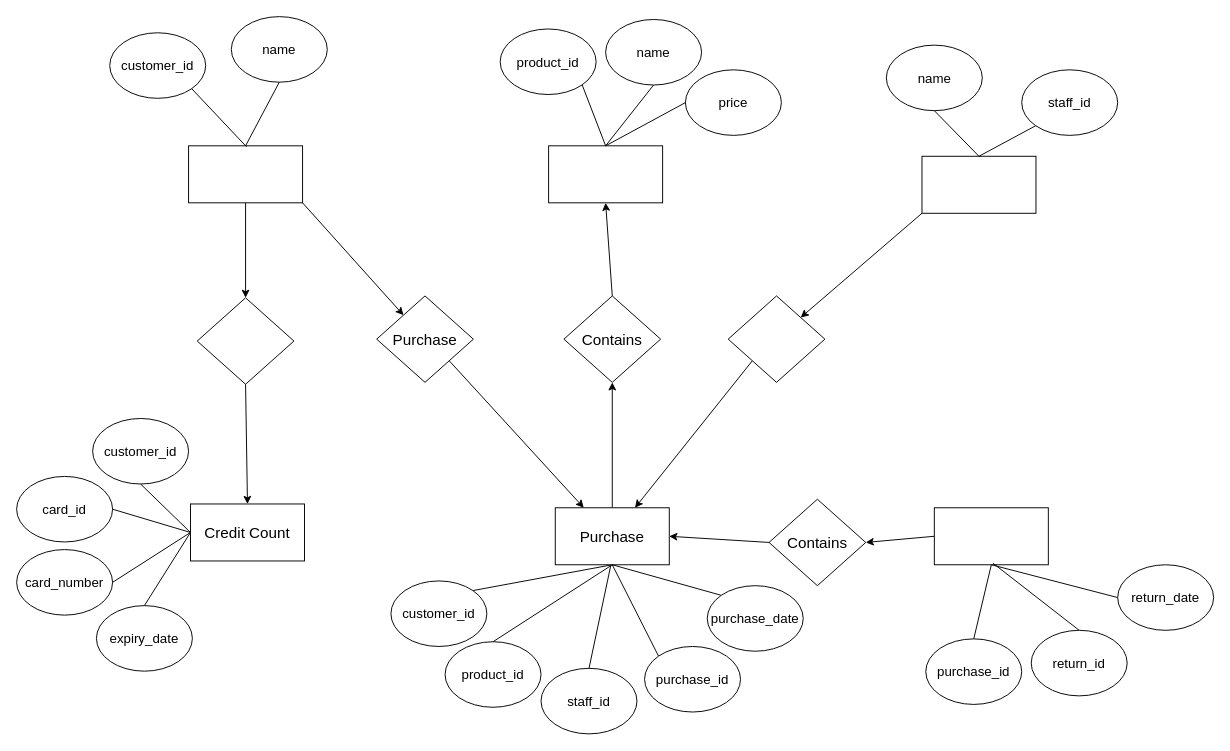
This 1230x751 diagram has some shape labels left out. Here are the shapes that lost their labels. From the top down, the centre of each, then its label:
the point at 245,174: Customer
the point at 605,174: Product
the point at 978,184: Staff
the point at 245,340: Owns
the point at 776,338: Manages
the point at 990,536: Return
